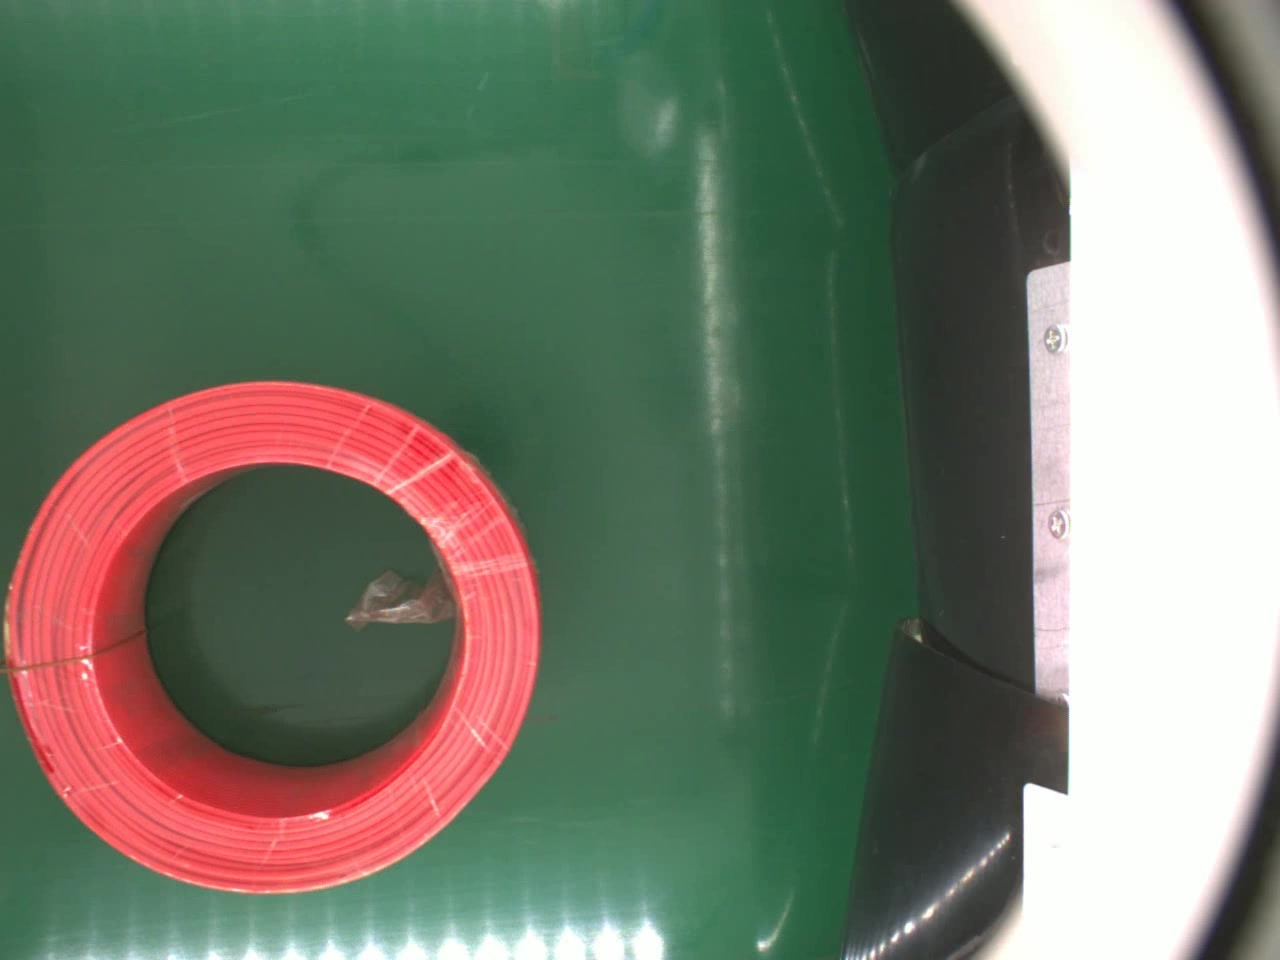red: (7, 377, 545, 893)
